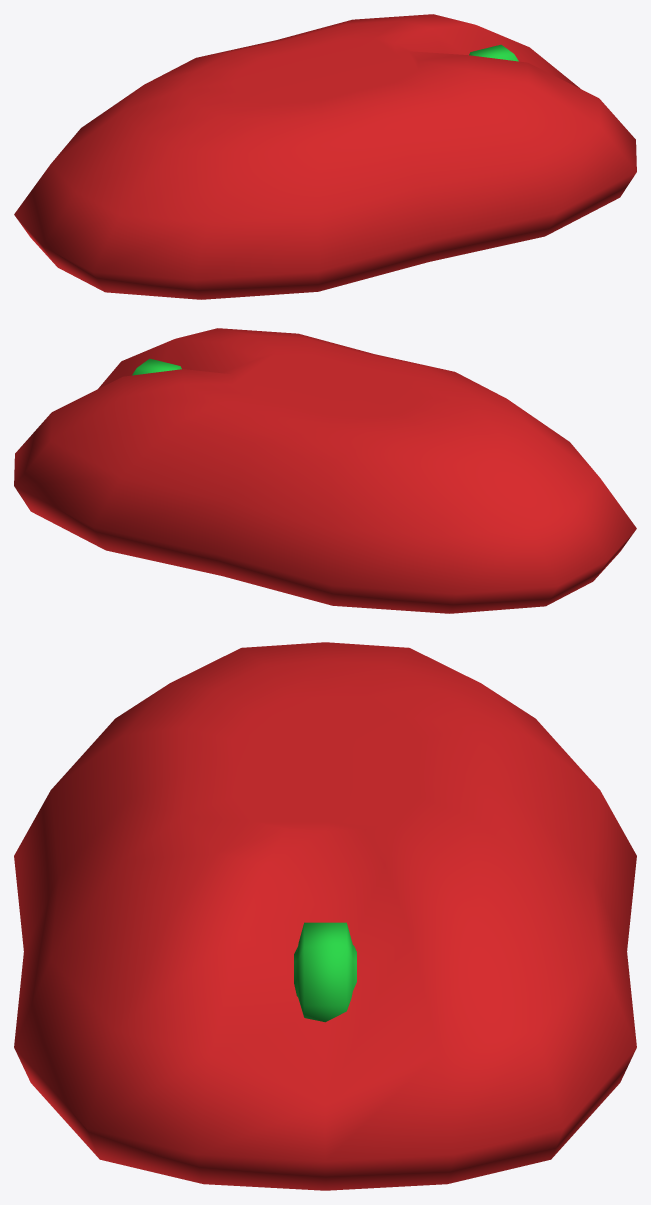
Rendered from MOD_ELE_Mouse_01.fbx.
3 renders of one model, top to bottom at view 1: azimuth 30°, elevation 25°; view 2: azimuth 150°, elevation 25°; view 3: azimuth 270°, elevation 25°, orthographic. The views are drawn at different scales.
Parts seen in each view (by area): view 1: HSHP_MOD_Mouse; view 2: HSHP_MOD_Mouse; view 3: HSHP_MOD_Mouse.
Boxes of the visible parts, bbox=[...] form: HSHP_MOD_Mouse: bbox=[14, 14, 636, 299]; HSHP_MOD_Mouse: bbox=[14, 328, 636, 613]; HSHP_MOD_Mouse: bbox=[14, 642, 636, 1190].
Size of the model in its own units: 0.1813 by 0.0403 by 0.1061.
